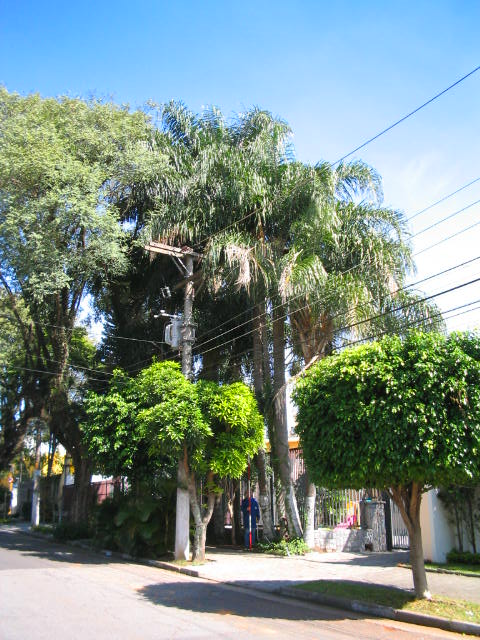crown: (292, 334, 478, 509), (137, 361, 265, 487)
stem: (394, 523, 441, 597), (189, 521, 217, 562)
stick: (239, 455, 262, 550)
tree: (291, 333, 479, 599), (135, 359, 269, 561)
